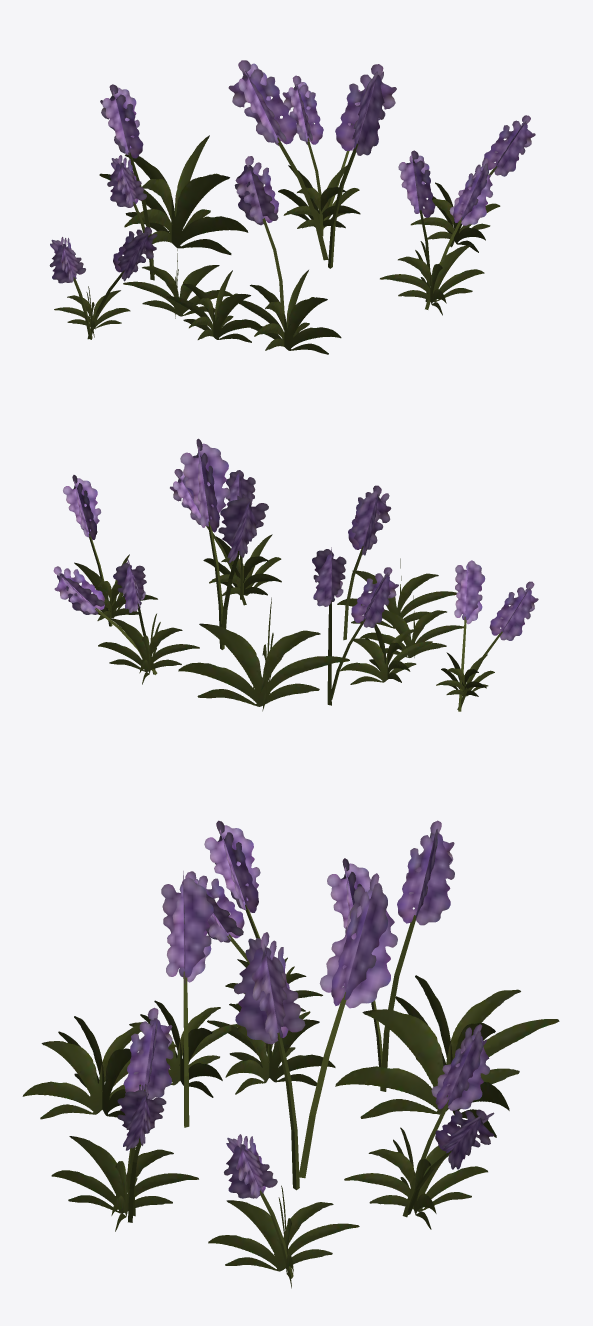
3 views of the same model, one above another, from view 1: azimuth 30°, elevation 25°; view 2: azimuth 150°, elevation 25°; view 3: azimuth 270°, elevation 25° (orthographic). The views are drawn at different scales.
Visible parts, largest first — view 1: body0_model0_lod0_mesh0; view 2: body0_model0_lod0_mesh0; view 3: body0_model0_lod0_mesh0.
Boxes of the visible parts, <box> form: body0_model0_lod0_mesh0: <box>49,60,535,354</box>; body0_model0_lod0_mesh0: <box>53,438,538,711</box>; body0_model0_lod0_mesh0: <box>22,820,559,1288</box>.
Size of the model in its own units: 129 by 54.03 by 81.95.
Materials: 1 (1 with a texture image).
